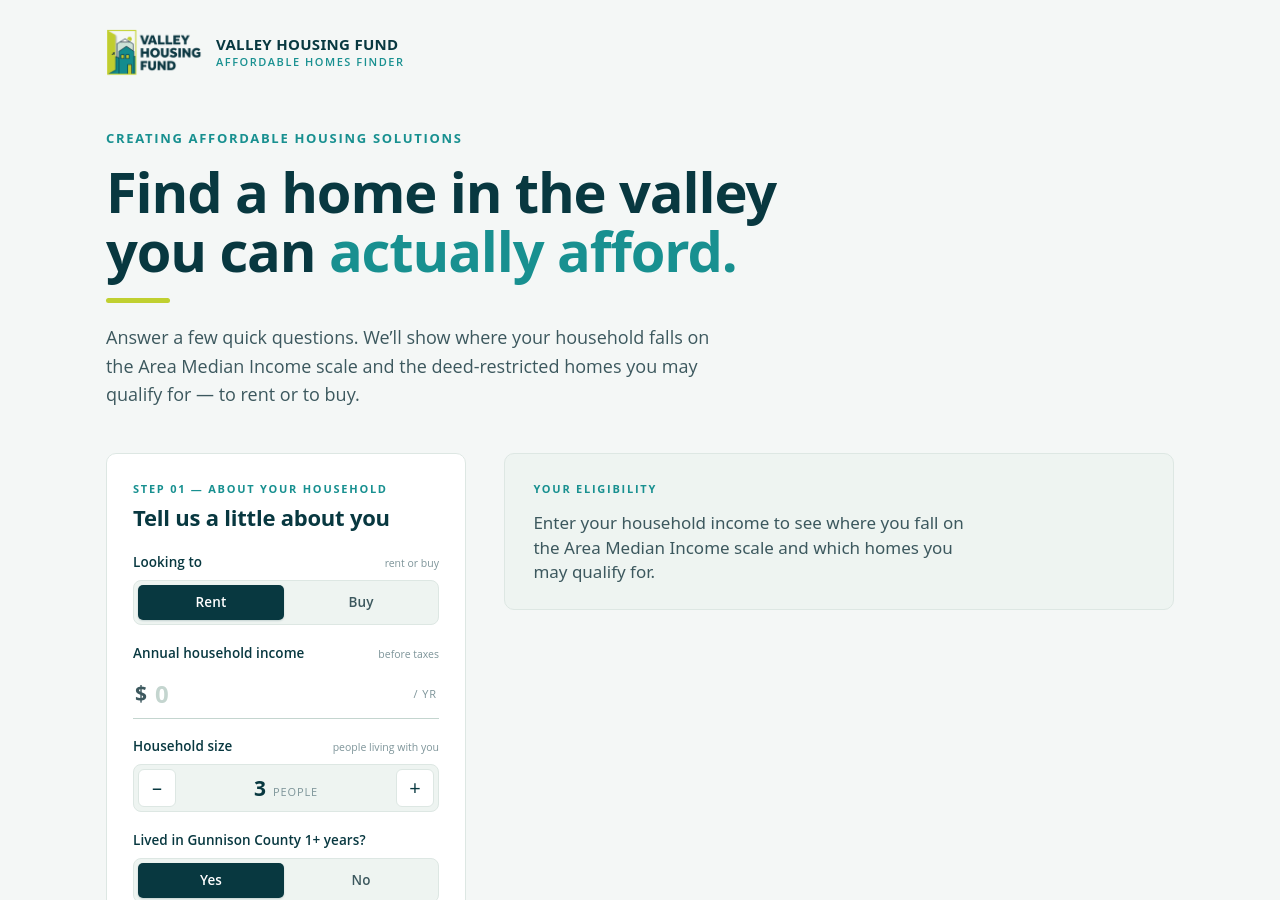
Calculator form › shows first-time buyer field when Buy is selected
Click the radio button labelled "Buy" at (361, 603), box x1=288 y1=585 x2=434 y2=620
(page scrolled)
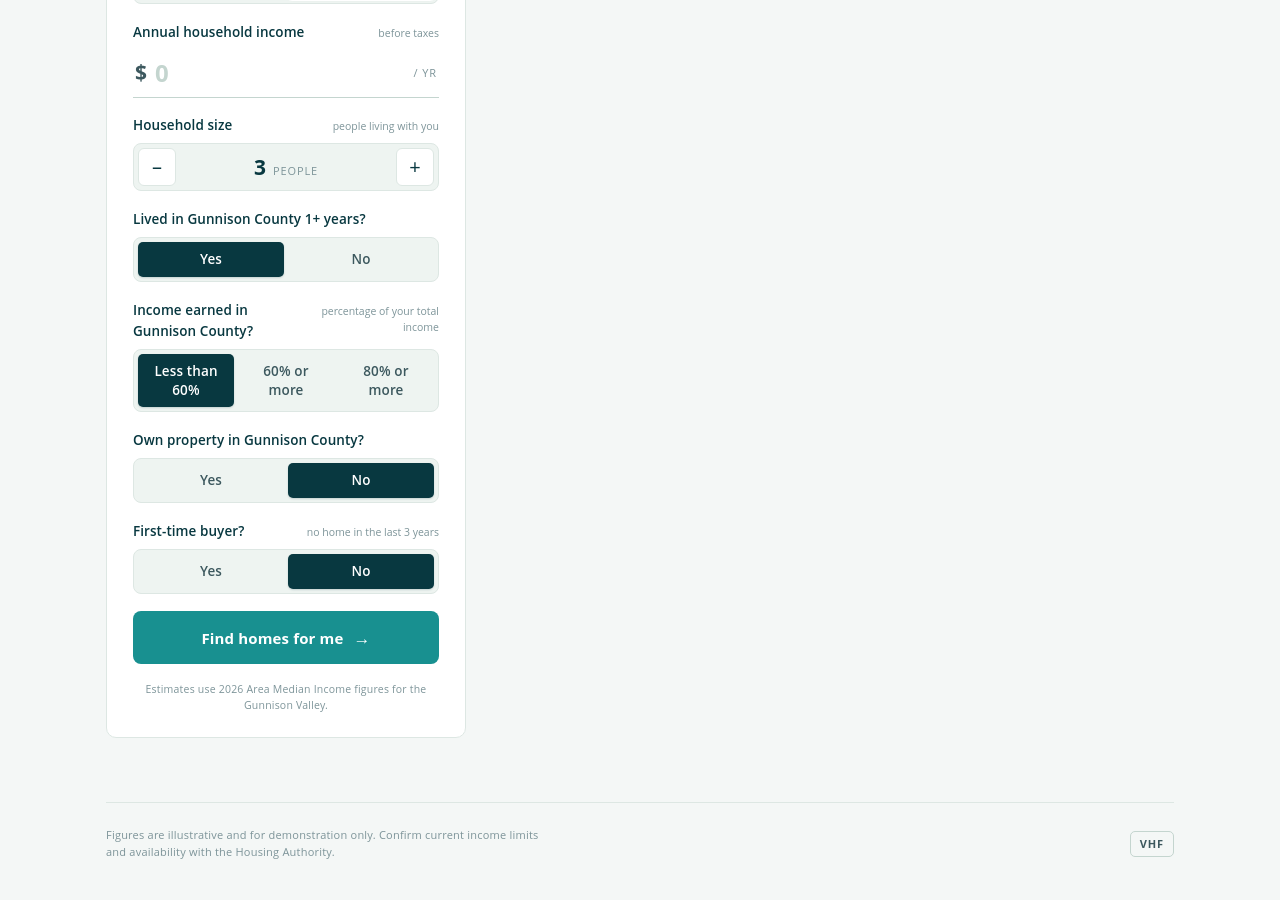
Expected: the element named "First-time buyer?" is shown, x1=133 y1=549 x2=439 y2=594
